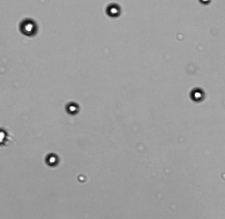Living Cell: (18, 19, 37, 37), (105, 2, 122, 18), (189, 87, 205, 102), (44, 152, 60, 167), (65, 102, 80, 115), (1, 127, 7, 144), (77, 174, 86, 183), (199, 1, 212, 5)
